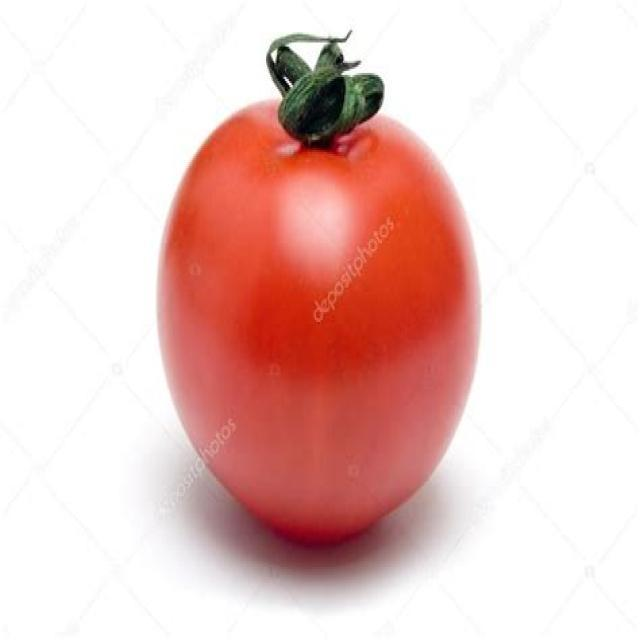Tomato: (155, 39, 484, 549)
